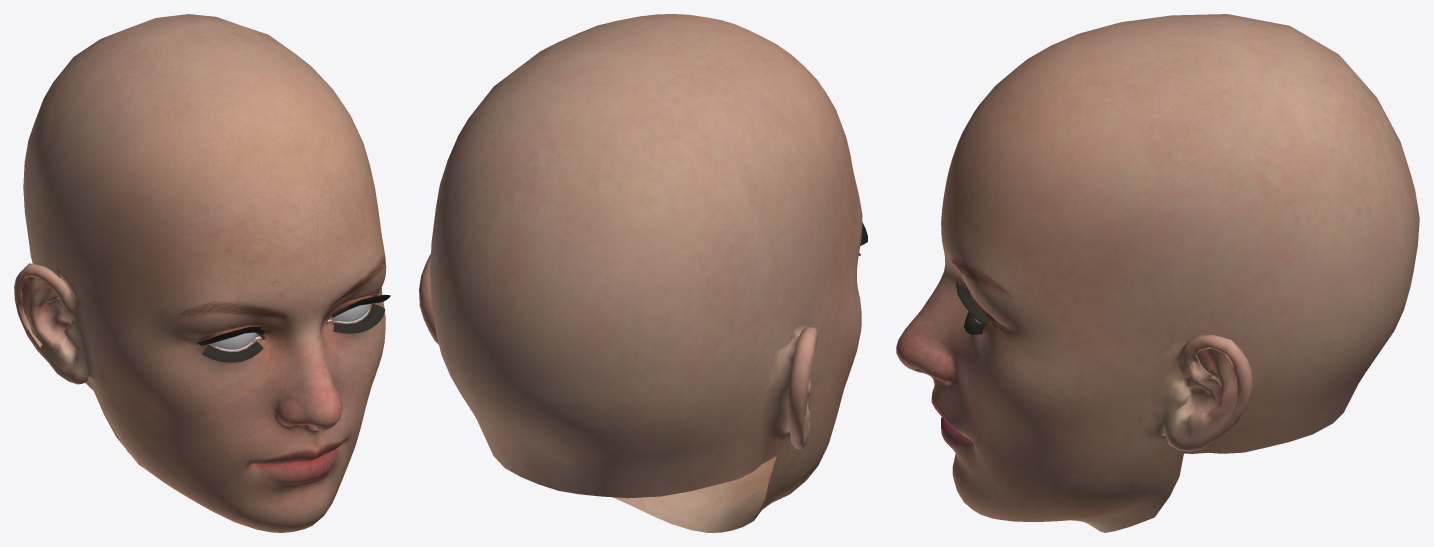
Rendered from Fem.obj.
3 renders of one model, left to right at view 1: azimuth 30°, elevation 25°; view 2: azimuth 150°, elevation 25°; view 3: azimuth 270°, elevation 25°, orthographic. The views are drawn at different scales.
Visible parts, largest first — view 1: Genesis2Female; view 2: Genesis2Female; view 3: Genesis2Female.
Boxes of the visible parts, x1=… form: Genesis2Female: x1=14, y1=14, x2=390, y2=532; Genesis2Female: x1=419, y1=14, x2=867, y2=532; Genesis2Female: x1=896, y1=14, x2=1419, y2=532.
Size of the model in its own units: 18.04 by 23.22 by 22.3.
